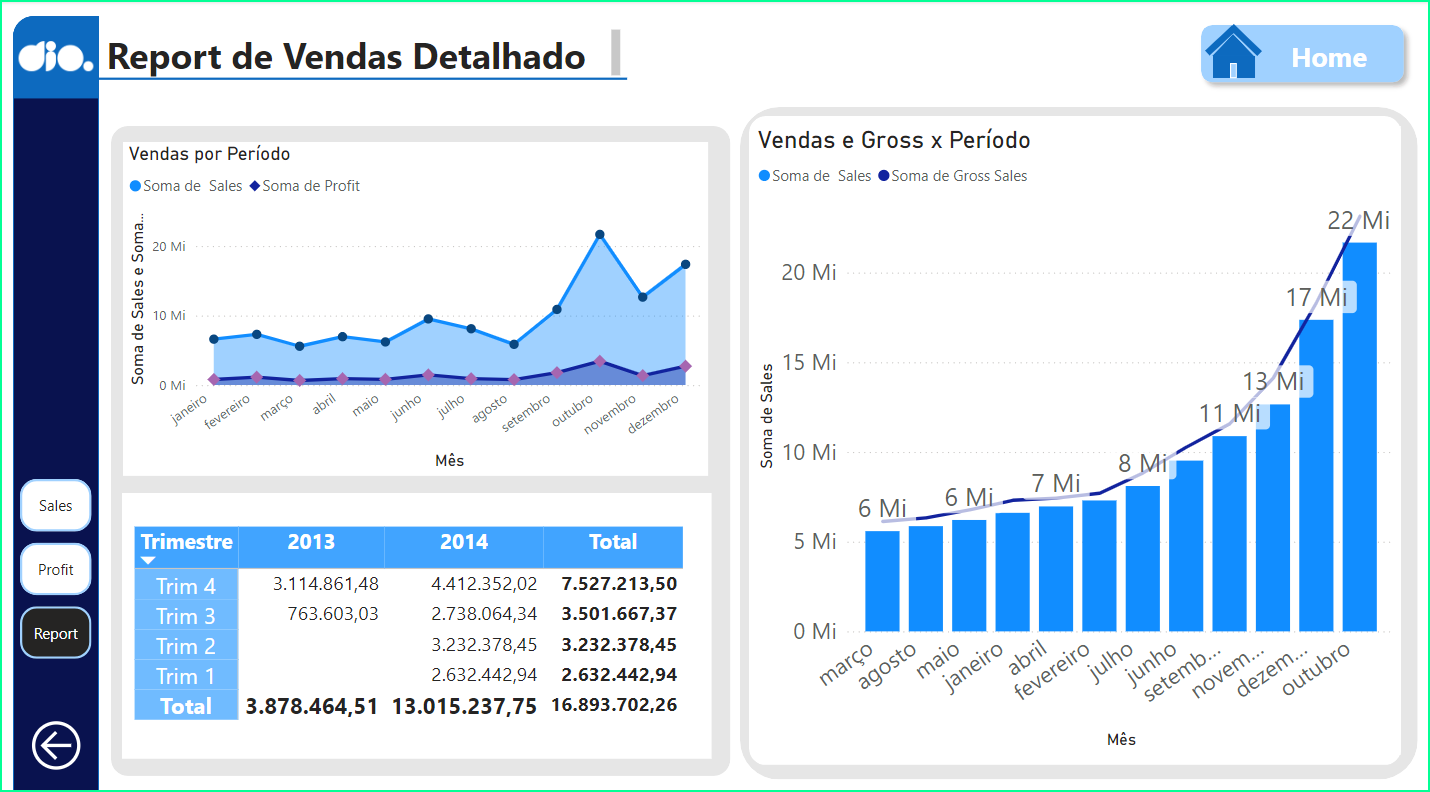

What the dashboard file says about the page in this screenshot:
{"tool":"powerbi","page":{"name":"Report","canvas":[1280,720],"ordinal":2},"visuals":[{"type":"actionButton","title":"Home Page","box":[1064.7,12.6,199.6,69.2],"z":0,"group":"g6"},{"type":"group","id":"g1","title":"Layout","box":[10.1,12.8,1269.9,706.9],"z":0},{"type":"shape","box":[1097.3,20.1,33.2,30.4],"z":0,"group":"g3"},{"type":"shape","box":[1084.5,49.8,37.6,19.7],"z":0,"group":"g2"},{"type":"shape","box":[87,51.2,473,37.1],"z":0,"group":"g5"},{"type":"shape","box":[660.5,94.7,606.9,602.4],"z":750,"group":"g7"},{"type":"shape","box":[10.1,13.4,77.2,706.3],"z":1000,"group":"g1"},{"type":"shape","box":[1076.8,20.8,30,29.6],"z":1000,"group":"g3"},{"type":"textbox","box":[88.4,21,470.2,52.2],"z":1000,"group":"g5"},{"type":"textbox","box":[1127,28,123,47],"z":1000,"group":"g6"},{"type":"shape","box":[1100.4,55.8,6.2,13.7],"z":1000,"group":"g2"},{"type":"shape","box":[97.7,112.4,554.7,582.1],"z":1000,"group":"g4"},{"type":"shape","box":[668.5,102.4,584.1,581.4],"z":1500,"group":"g7"},{"type":"shape","box":[10.1,13.4,77.2,73.8],"z":2000,"group":"g1"},{"type":"group","id":"g2","title":"Home","box":[1076.8,20.1,53.7,49.4],"z":2000,"group":"g6"},{"type":"group","id":"g3","title":"Grupo 1","box":[1076.8,20.1,53.7,30.4],"z":2000,"group":"g2"},{"type":"shape","box":[107.5,441.2,528.4,238.2],"z":2000,"group":"g4"},{"type":"actionButton","title":"Home Page","box":[1064.2,12.6,200.1,69.1],"z":3000,"group":"g6"},{"type":"image","title":"logo_dio","box":[10.1,18.4,77.2,62.1],"z":3000,"group":"g1"},{"type":"shape","box":[1084.4,30.1,37.8,19.7],"z":3000,"group":"g2"},{"type":"lineClusteredColumnComboChart","title":"Vendas e Gross x Período","fields":{"Category":["financials.Date.Variation.Hierarquia de datas.Mês"],"Y":["Sum(financials. Sales)"],"Y2":["Sum(financials.Gross Sales)"]},"box":[671.6,111.4,580.6,562.9],"z":3000,"group":"g7"},{"type":"areaChart","title":"Vendas por Período","fields":{"Category":["financials.Date.Variation.Hierarquia de datas.Trimestre","financials.Date.Variation.Hierarquia de datas.Mês"],"Y":["Sum(financials. Sales)","Sum(financials.Profit)"]},"box":[108.4,126.3,524.2,298.7],"z":3000,"group":"g4"},{"type":"shape","box":[87,12.8,1193.1,74.1],"z":4000,"group":"g1"},{"type":"group","id":"g4","title":"Detalhes venda x profit","box":[97.7,112.4,554.7,582.1],"z":4000},{"type":"pivotTable","fields":{"Columns":["financials.Date.Variation.Hierarquia de datas.Ano"],"Rows":["financials.Date.Variation.Hierarquia de datas.Trimestre"],"Values":["Sum(financials.Profit)"]},"box":[113.4,466.2,509.5,189.9],"z":4000,"group":"g4"},{"type":"group","id":"g5","title":"Sales report","box":[87,21,473,67],"z":6000},{"type":"actionButton","box":[20.5,636.6,55.9,60.5],"z":8000},{"type":"pageNavigator","box":[16.3,427.7,64.2,162.9],"z":11000},{"type":"group","id":"g6","title":"Botão home","box":[1064.2,12.6,200.1,69.2],"z":12000},{"type":"group","id":"g7","title":"Grupo 2","box":[660.5,94.7,606.9,602.4],"z":12001}]}

Visuals, with their boxes in screenshot pixels (x1, y1, x2, y2), scaled from the page's 1280x720 canvas onto the 1430x792 screenshot:
"Home Page" actionButton: (1189,14,1412,90)
"Layout" group: (11,14,1429,791)
shape: (1226,22,1263,56)
shape: (1212,55,1254,76)
shape: (97,56,626,97)
shape: (738,104,1416,767)
shape: (11,15,98,791)
shape: (1203,23,1237,55)
textbox: (99,23,624,81)
textbox: (1259,31,1396,82)
shape: (1229,61,1236,76)
shape: (109,124,729,764)
shape: (747,113,1399,752)
shape: (11,15,98,96)
"Home" group: (1203,22,1263,76)
"Grupo 1" group: (1203,22,1263,56)
shape: (120,485,710,747)
"Home Page" actionButton: (1189,14,1412,90)
"logo_dio" image: (11,20,98,89)
shape: (1211,33,1254,55)
"Vendas e Gross x Período" lineClusteredColumnComboChart: (750,123,1399,742)
"Vendas por Período" areaChart: (121,139,707,468)
shape: (97,14,1429,96)
"Detalhes venda x profit" group: (109,124,729,764)
pivotTable - financials.Date.Variation.Hierarquia de datas.Ano x financials.Date.Variation.Hierarquia de datas.Trimestre: (127,513,696,722)
"Sales report" group: (97,23,626,97)
actionButton: (23,700,85,767)
pageNavigator: (18,470,90,650)
"Botão home" group: (1189,14,1412,90)
"Grupo 2" group: (738,104,1416,767)
